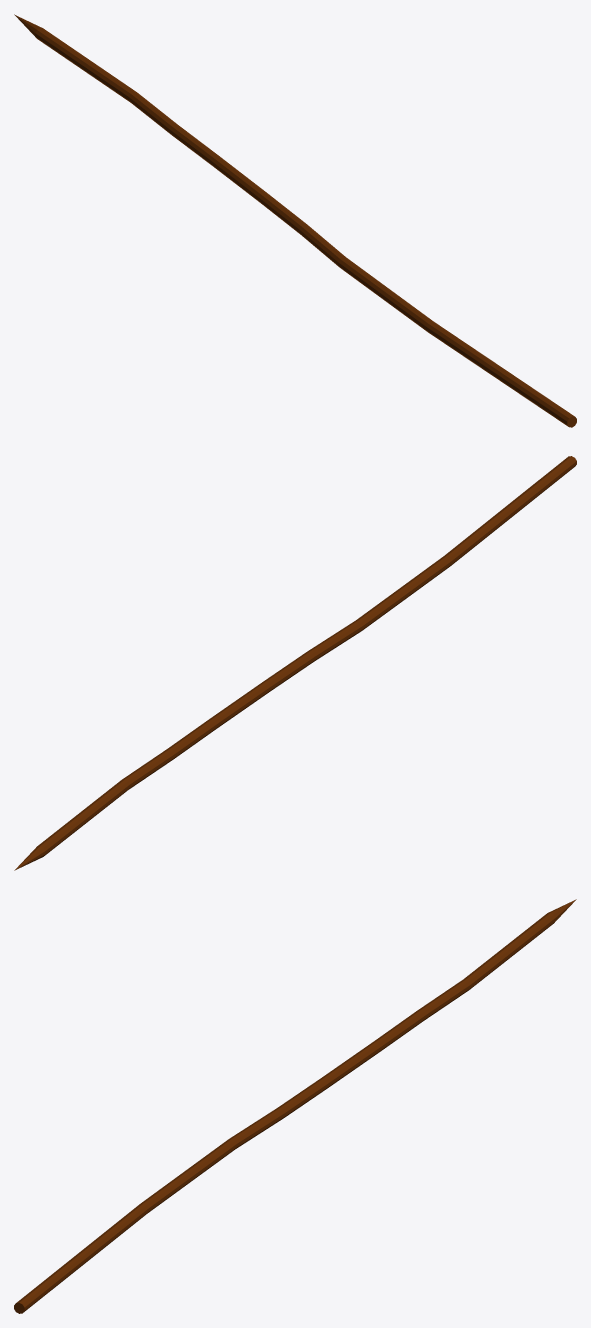
File: Spear_02.fbx
3 views of the same model, one above another, from view 1: azimuth 30°, elevation 25°; view 2: azimuth 150°, elevation 25°; view 3: azimuth 330°, elevation 25° (orthographic).
Parts seen in each view (by area): view 1: Spear_02; view 2: Spear_02; view 3: Spear_02.
Part boxes in pixels (<box>): Spear_02: <box>14,14,576,427</box>; Spear_02: <box>14,456,576,870</box>; Spear_02: <box>14,899,576,1313</box>.
Size of the model in its own units: 6.05 by 2.86 by 260.
